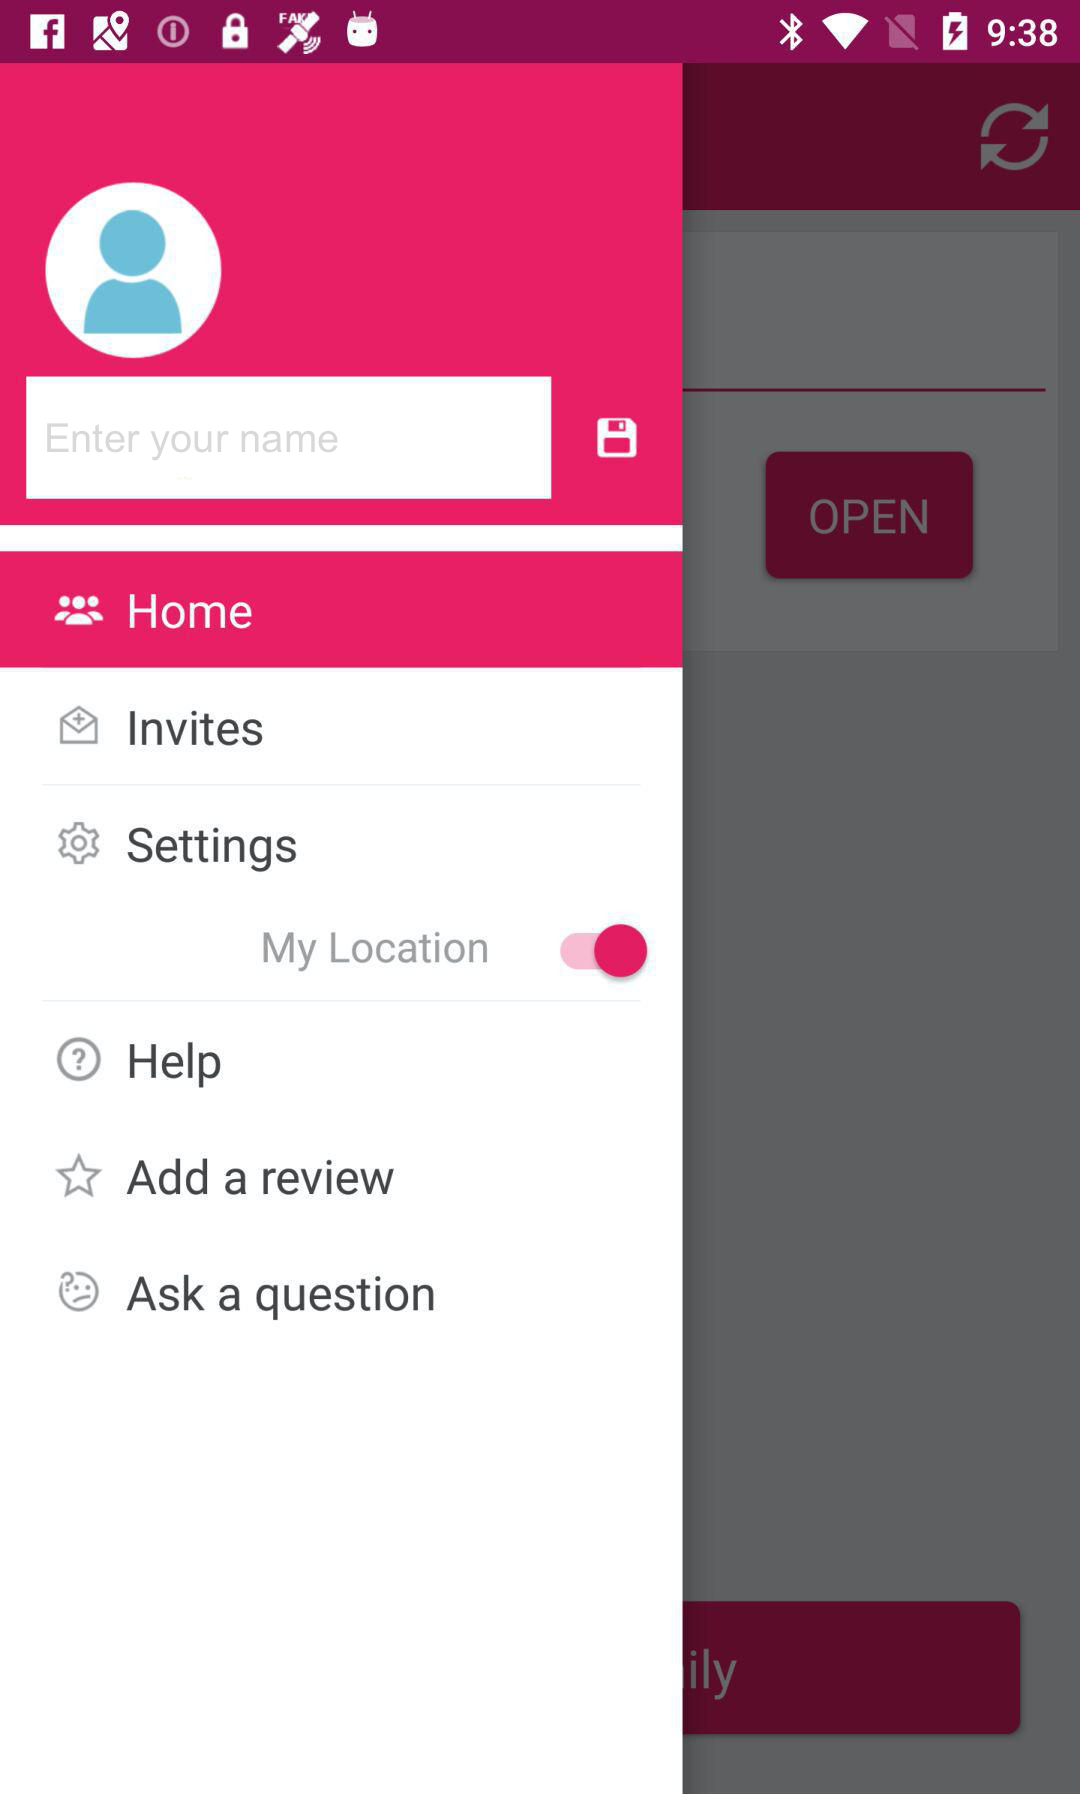Drawer: (1, 64, 684, 1794)
EditText: (27, 375, 552, 500)
Icon: (45, 182, 223, 360), (978, 101, 1052, 173), (55, 1152, 105, 1199), (56, 1035, 102, 1083), (58, 821, 101, 865), (596, 418, 638, 459), (60, 704, 100, 746), (55, 595, 106, 627)
Image: (58, 1269, 101, 1313)
Switch: (560, 923, 650, 980)
Text: (126, 1272, 436, 1321), (126, 1156, 396, 1199), (47, 423, 340, 461), (261, 930, 489, 974), (127, 827, 299, 873), (129, 709, 264, 748), (129, 1041, 223, 1090), (129, 593, 255, 630)
TextButton: (765, 452, 975, 580)
UpperTaskBar: (1, 1, 1080, 64)
